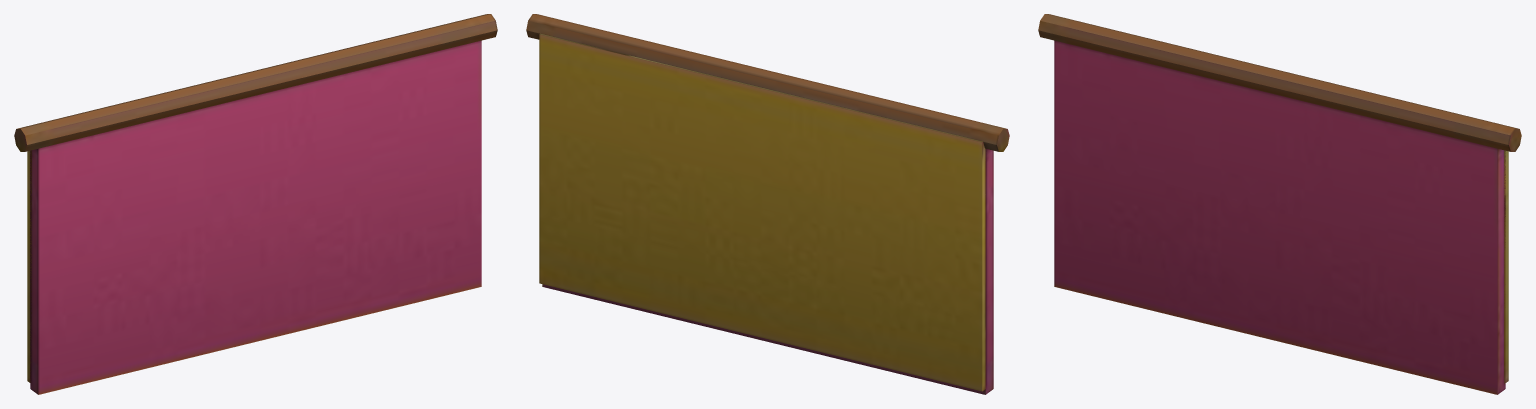
File: capote.glb
3 views of the same model, side by side, from view 1: azimuth 30°, elevation 25°; view 2: azimuth 150°, elevation 25°; view 3: azimuth 330°, elevation 25° (orthographic).
Visible parts, largest first — view 1: capote; view 2: capote; view 3: capote.
Boxes of the visible parts, box(x1,y1,x2,y2) form: capote: box(14, 14, 497, 394); capote: box(526, 14, 1009, 394); capote: box(1038, 14, 1521, 394).
Size of the model in its own units: 1.7 by 0.92 by 0.085.
1 material, 1 textured.
